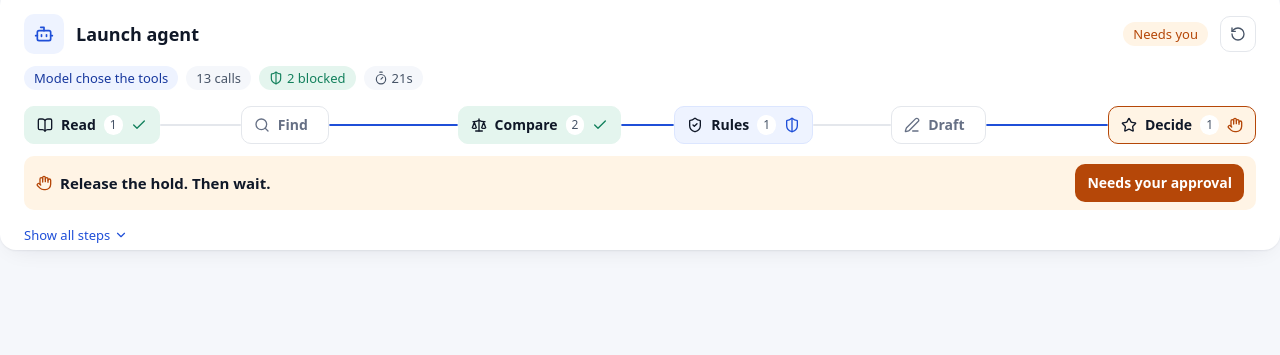
Test case: AgentLive › clicking a phase opens only its steps; one at a time; Escape closes
Click the button with test id "agent-phase".
click(540, 125)  # box left=458, top=106, right=622, bottom=144
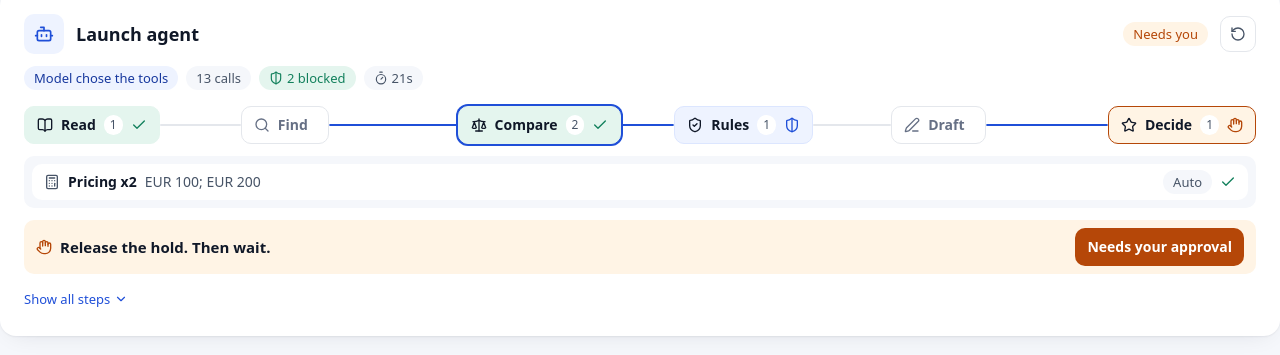
Check: the number of list items with test id "phase-step" is 1, box left=32, top=164, right=1248, bottom=200
Check: the element with test id "agent-phase-panel" shows "Pricing x2", box left=24, top=156, right=1256, bottom=208
Click the button with test id "agent-phase".
click(1182, 125)  # box left=1108, top=106, right=1256, bottom=144
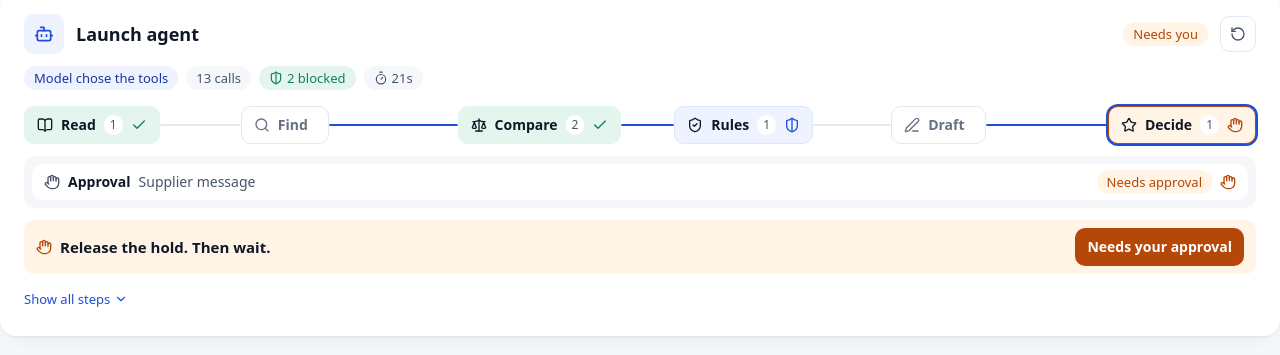
Check: the element with test id "agent-phase-panel" has attribute data-phase="decide", box left=24, top=156, right=1256, bottom=208
Press Escape
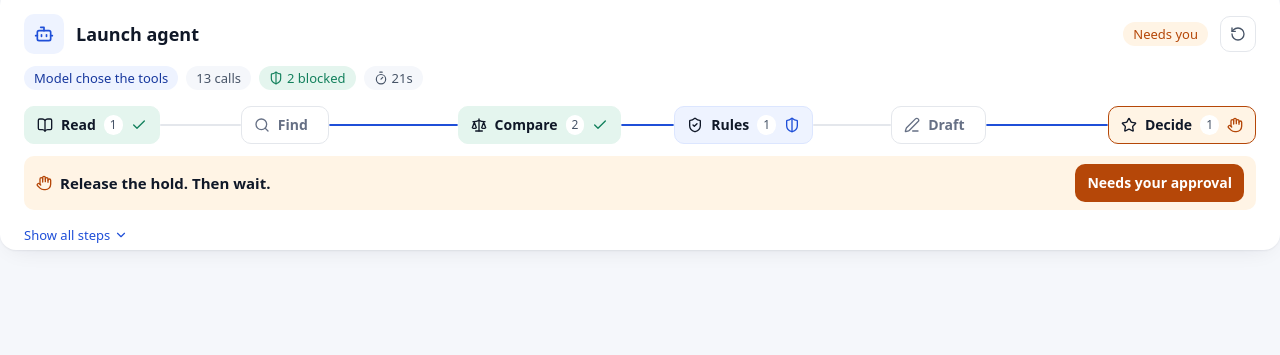
Check: the element with test id "agent-phase-panel" is gone
Click the button with test id "agent-phase".
click(1182, 125)  # box left=1108, top=106, right=1256, bottom=144
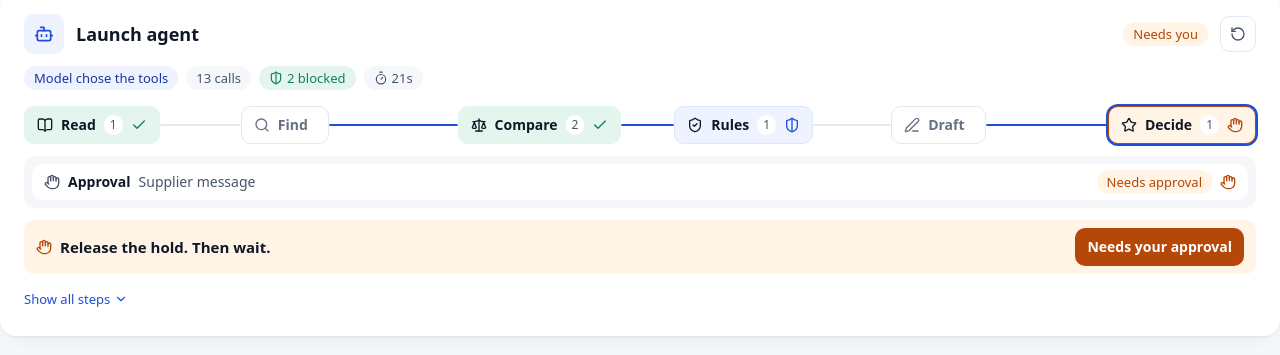
Click the button with test id "agent-phase".
click(1182, 125)  # box left=1108, top=106, right=1256, bottom=144
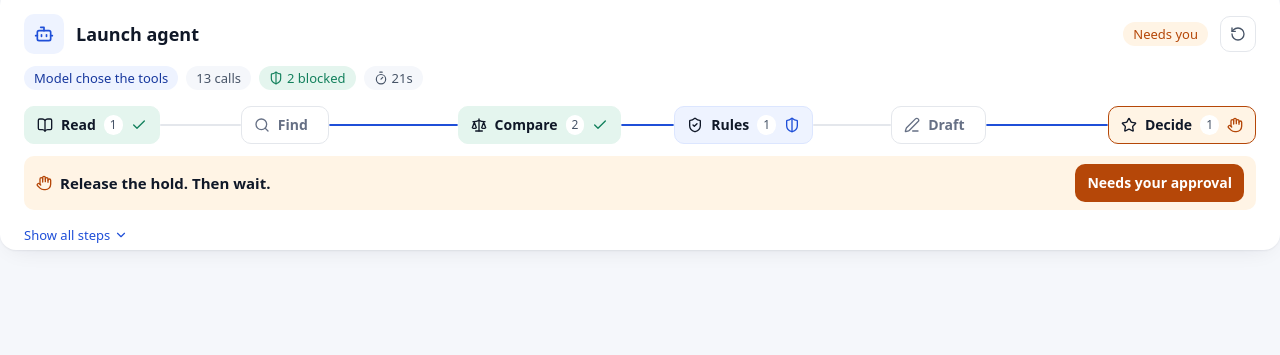
Check: the element with test id "agent-phase-panel" is gone
